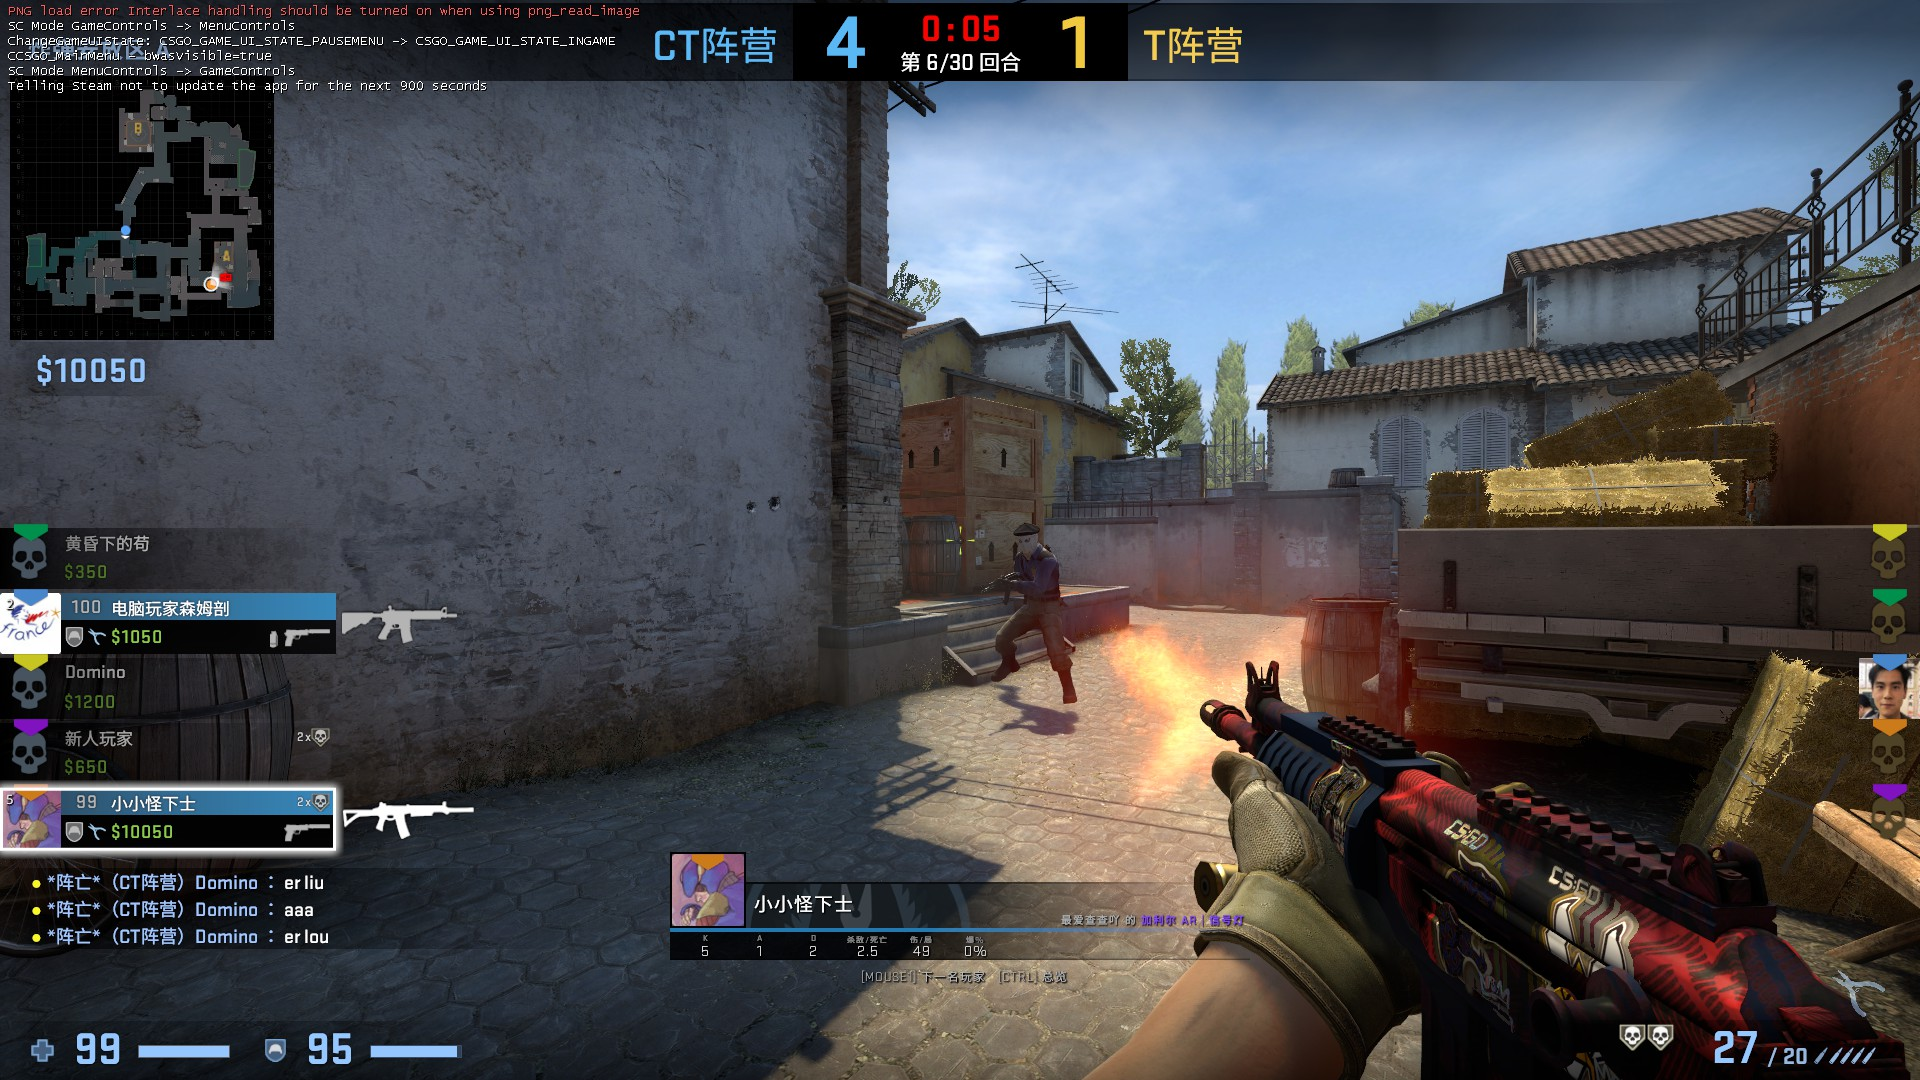head: (1010, 520, 1042, 557)
